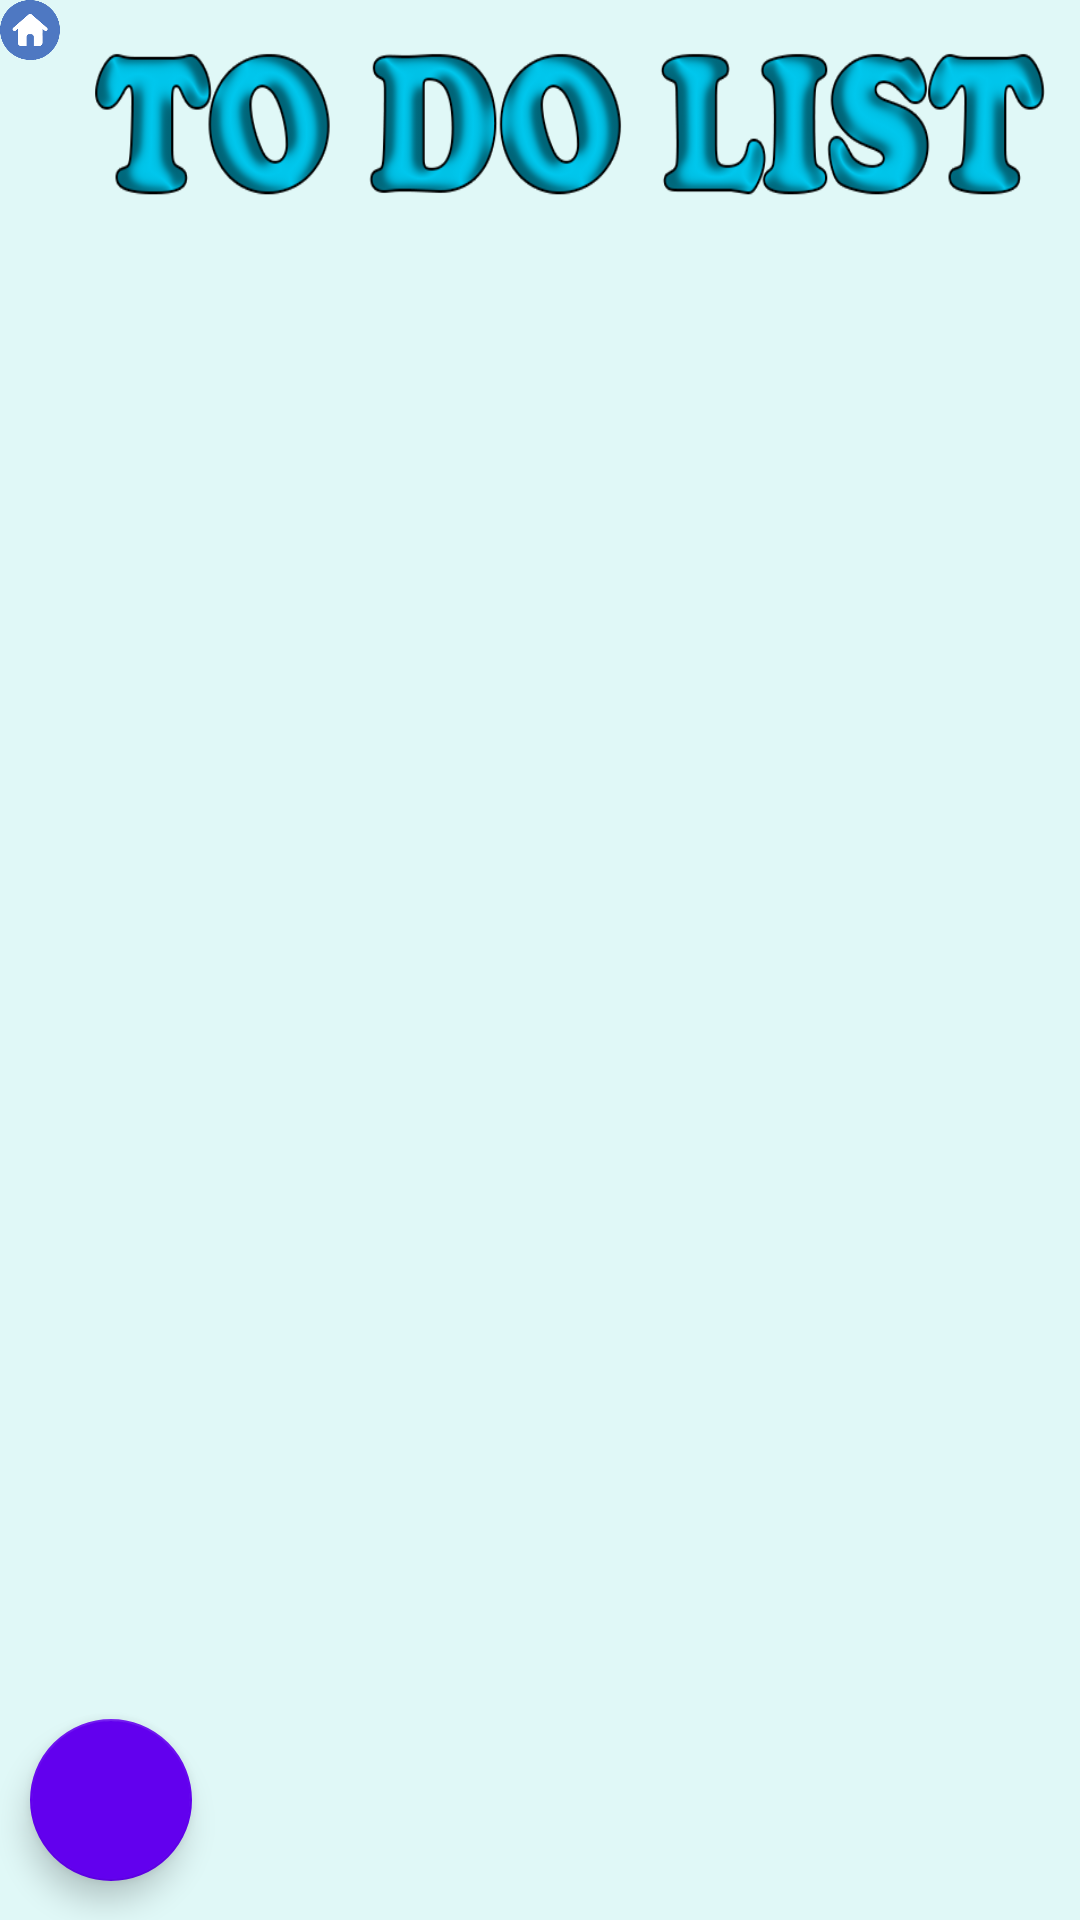

Locate icon controls on the screen. Image size 1080w x 1920h, boxes as (x1, y1, x2, y2).
gotomenu: (0, 0, 60, 60)
